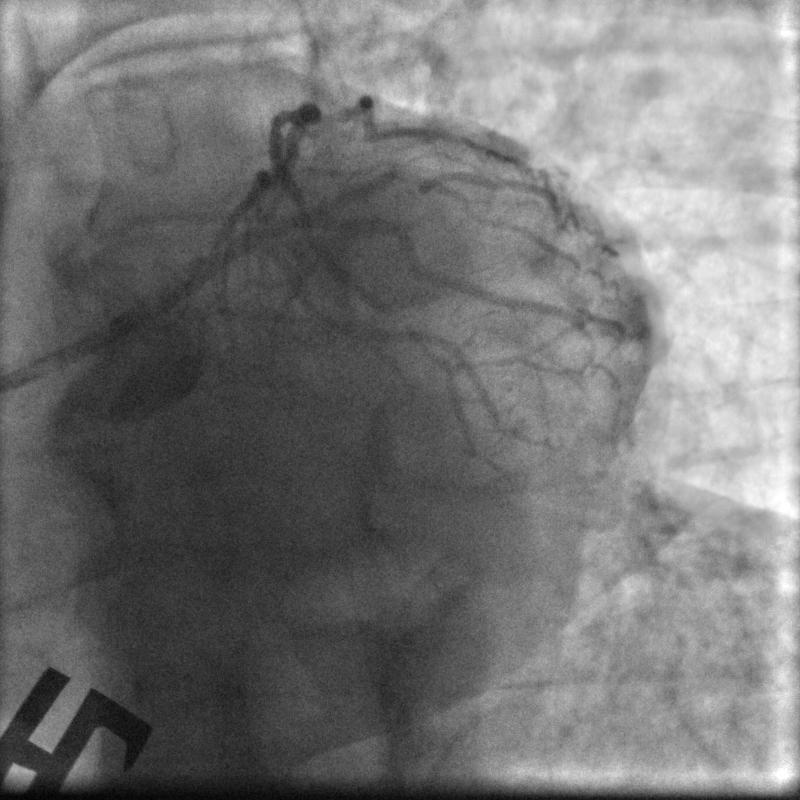Stenosis: (384, 163, 440, 193)
